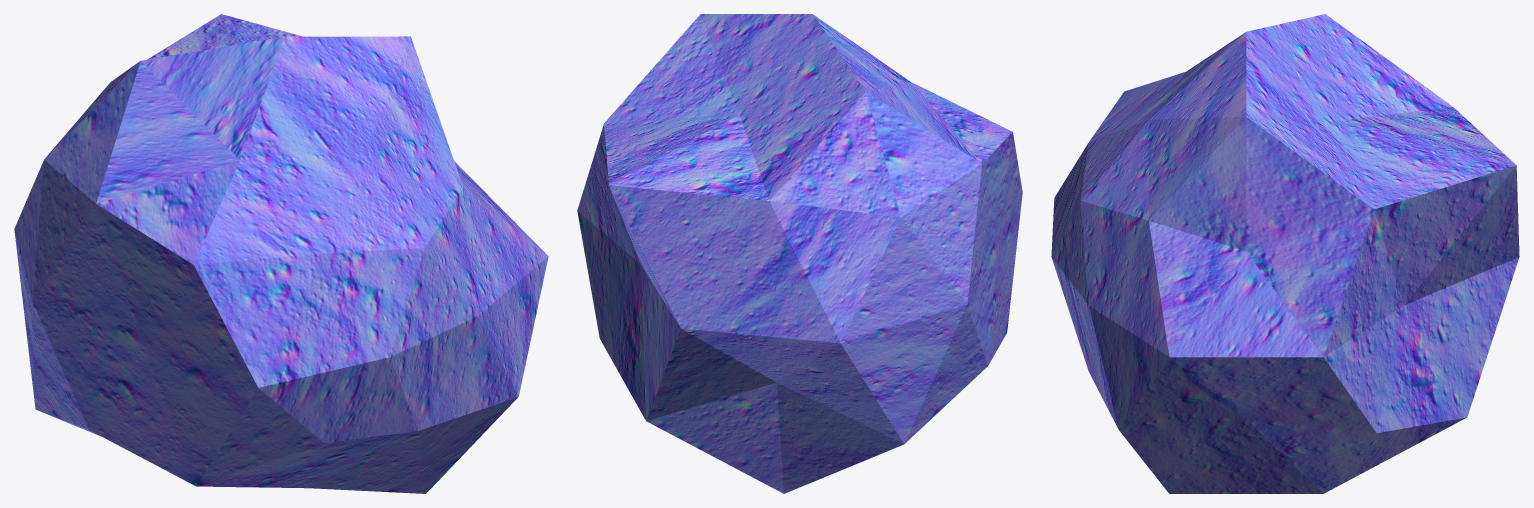
Rendered from mediumasteroid14_LOD4.fbx.
3 views of the same model, side by side, from view 1: azimuth 30°, elevation 25°; view 2: azimuth 150°, elevation 25°; view 3: azimuth 270°, elevation 25° (orthographic). The views are drawn at different scales.
Parts seen in each view (by area): view 1: Icosphere; view 2: Icosphere; view 3: Icosphere.
Boxes of the visible parts, box(x1,y1,x2,y2) form: Icosphere: box(14, 14, 548, 493); Icosphere: box(577, 14, 1022, 493); Icosphere: box(1051, 14, 1519, 493).
Bounding box in the file's own units: 238 × 247 × 240.
